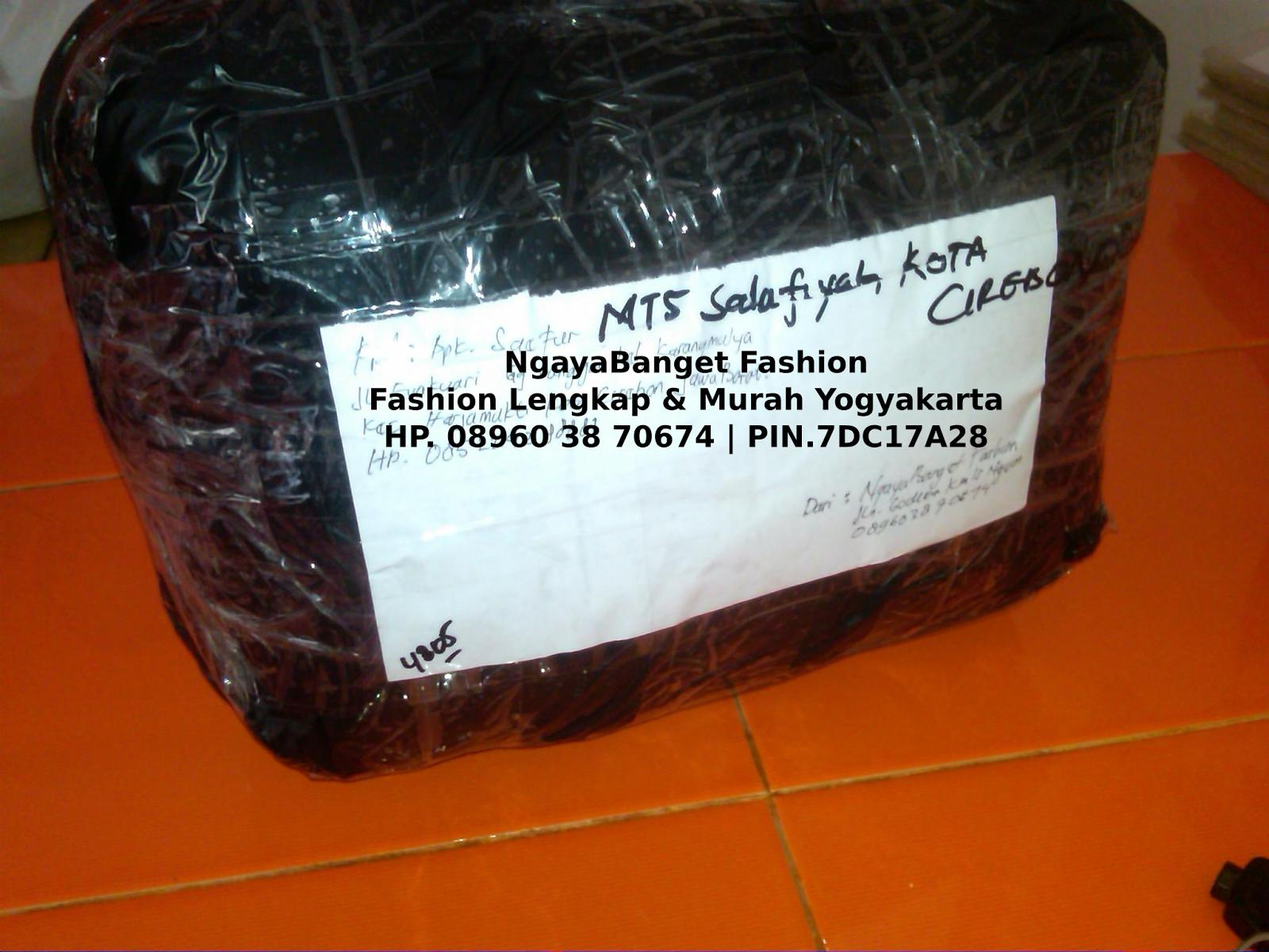undamaged: (17, 0, 1176, 785)
